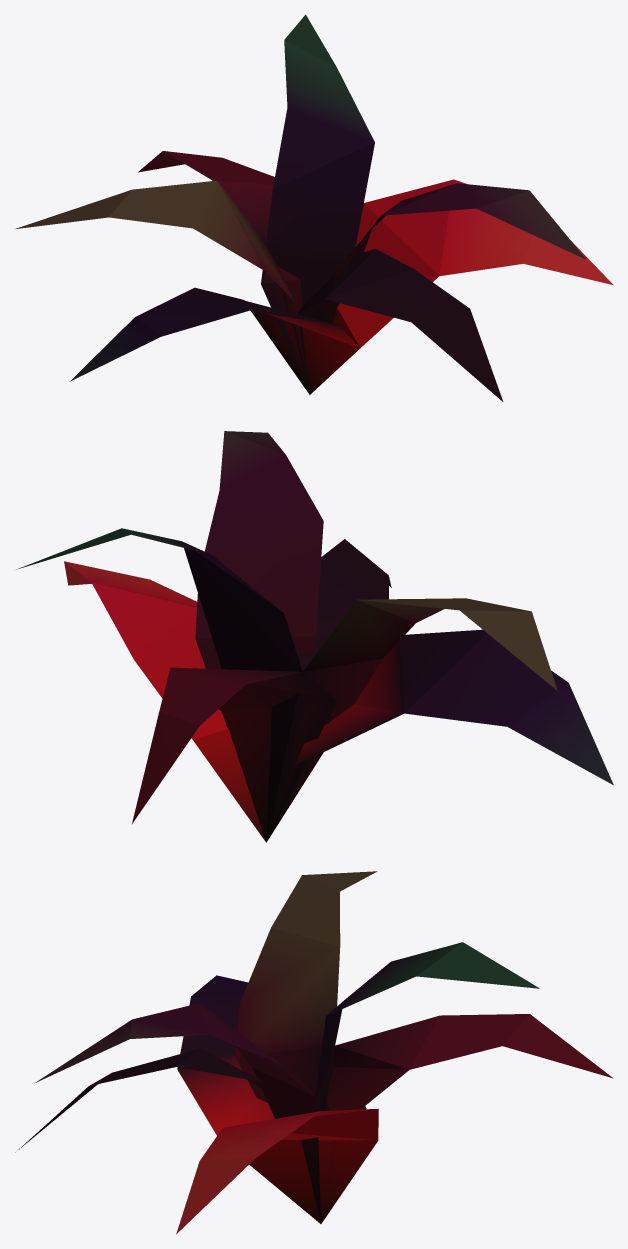
The model's file is Fern simple double sided.fbx.
The picture shows the model from 3 angles, top to bottom: view 1: azimuth 30°, elevation 25°; view 2: azimuth 150°, elevation 25°; view 3: azimuth 270°, elevation 25°; orthographic projection. The views are drawn at different scales.
Visible parts, largest first — view 1: fern_atlas; view 2: fern_atlas; view 3: fern_atlas.
Boxes of the visible parts, bbox=[...] form: fern_atlas: bbox=[14, 14, 613, 401]; fern_atlas: bbox=[16, 431, 613, 842]; fern_atlas: bbox=[15, 871, 612, 1234].
Size of the model in its own units: 209 by 117 by 210.
